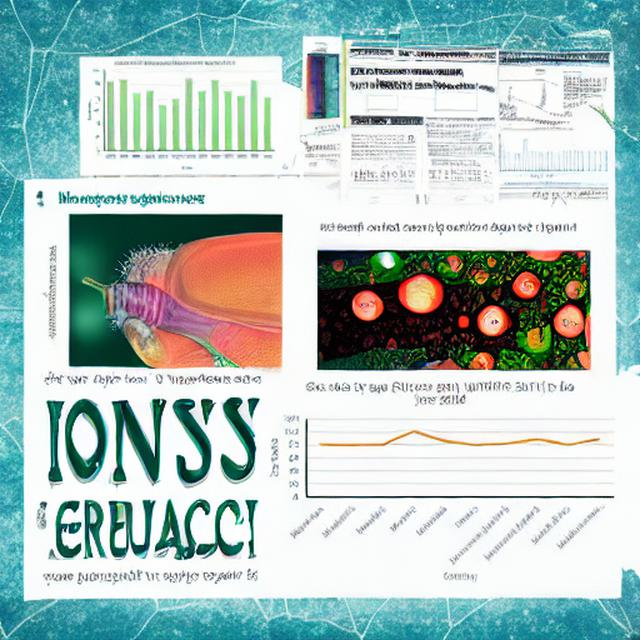Graph: (261, 376, 620, 585), (84, 58, 279, 173), (491, 127, 586, 180), (423, 159, 479, 191)
